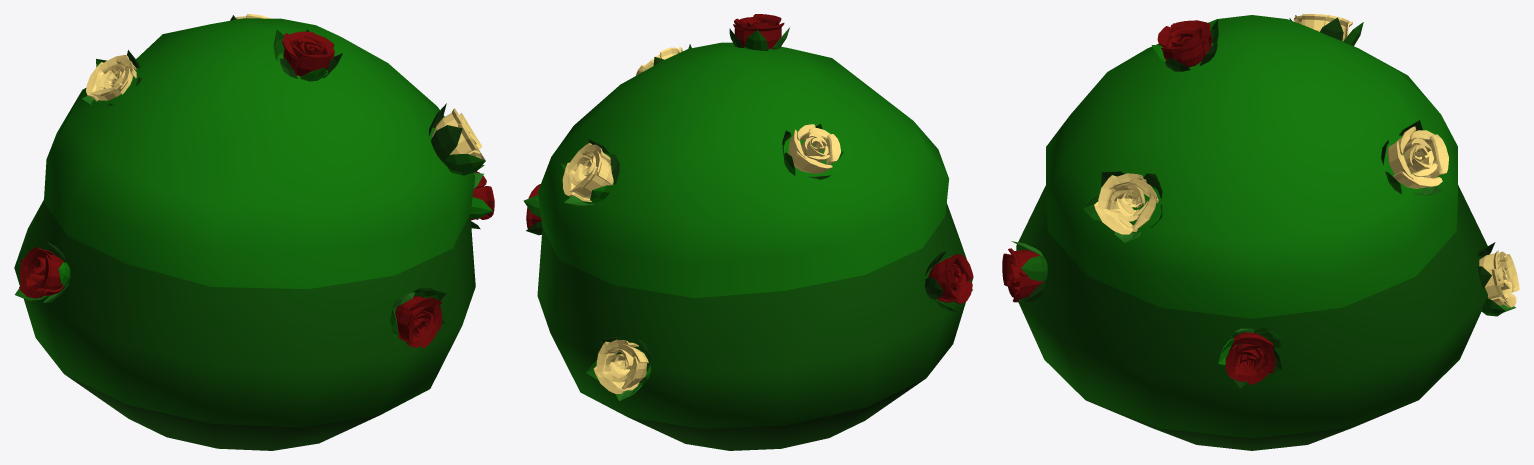
Rendered from Pul1-2.fbx.
3 renders of one model, left to right at view 1: azimuth 30°, elevation 25°; view 2: azimuth 150°, elevation 25°; view 3: azimuth 270°, elevation 25°, orthographic. The views are drawn at different scales.
Visible parts, largest first — view 1: Pul1-2; view 2: Pul1-2; view 3: Pul1-2.
Part boxes in pixels (x1=…): Pul1-2: x1=14, y1=14, x2=494, y2=450; Pul1-2: x1=523, y1=14, x2=973, y2=450; Pul1-2: x1=1002, y1=14, x2=1519, y2=450.
Bounding box in the file's own units: 0.6744 × 0.5578 × 0.6481.
